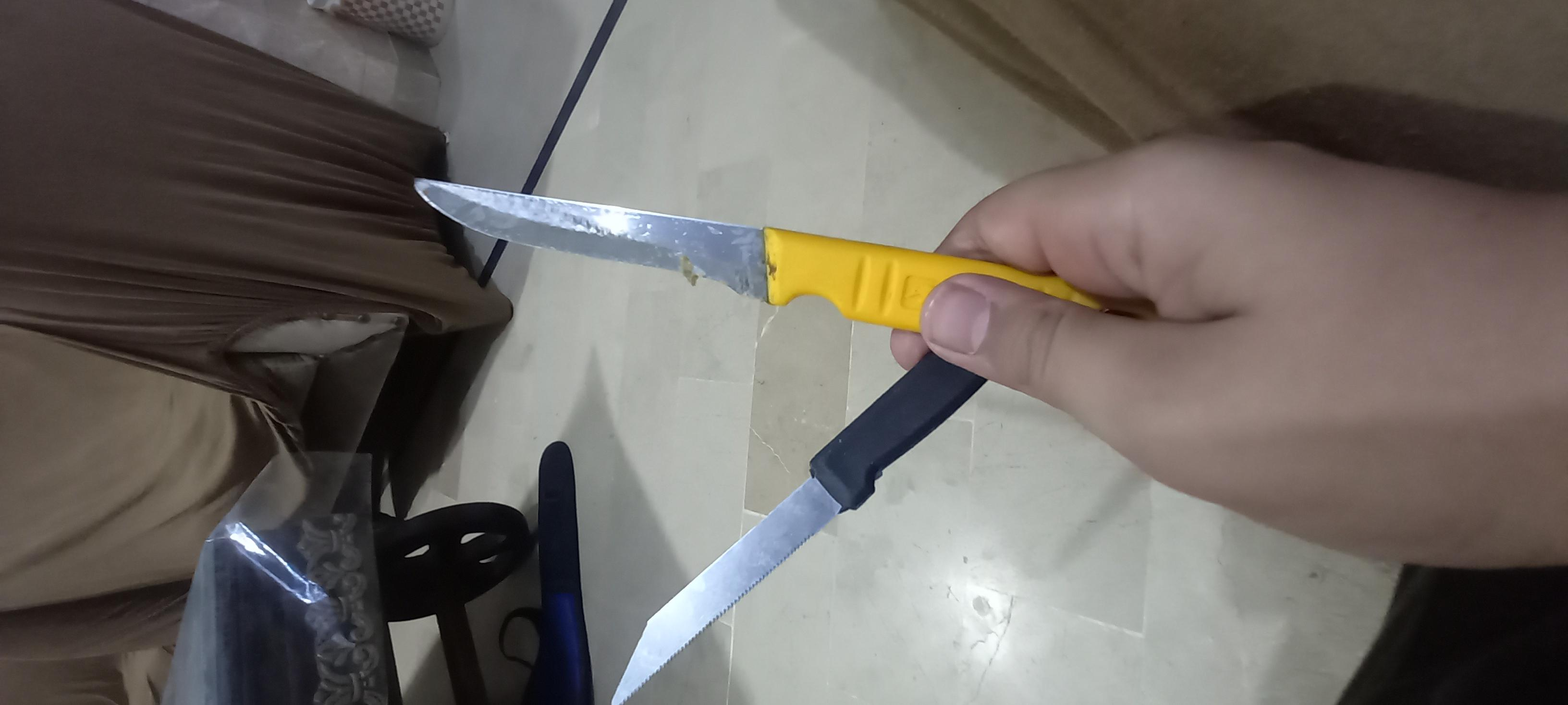knives: (1, 261, 784, 450), (796, 175, 1219, 505)
